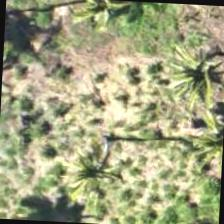Kelapa_Sawit: (50, 127, 145, 222), (158, 21, 223, 116), (62, 0, 156, 57), (172, 95, 223, 189)
